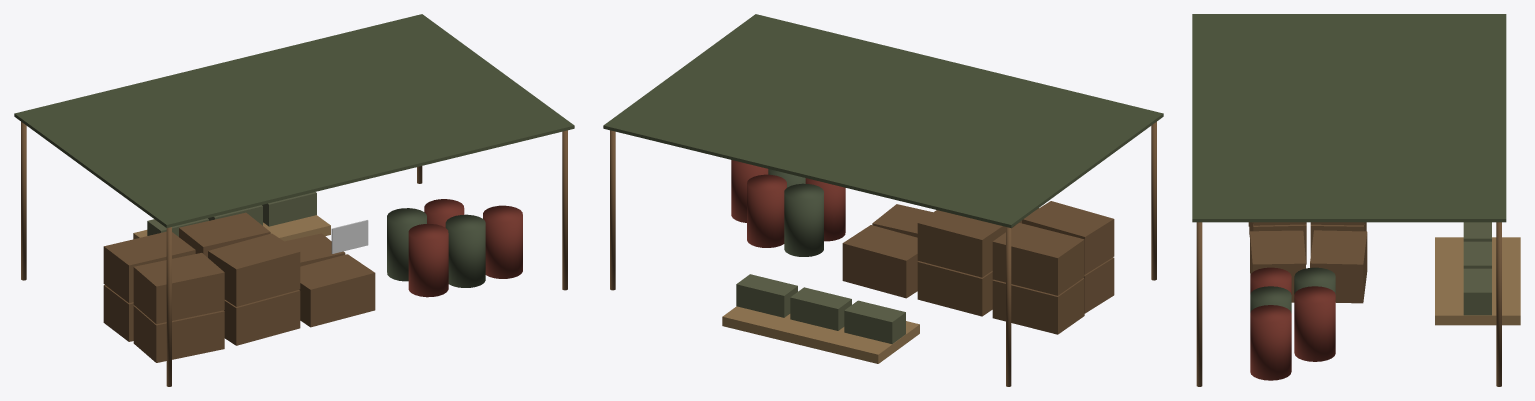
Rendered from SupplyDepot.fbx.
The picture shows the model from 3 angles, left to right: view 1: azimuth 30°, elevation 25°; view 2: azimuth 150°, elevation 25°; view 3: azimuth 270°, elevation 25°; orthographic projection. The views are drawn at different scales.
Parts seen in each view (by area): view 1: Camo, Crate001, Crate101, Crate200, Crate000, Crate100, Crate011, Drum0, Drum1, Drum2, Crate111, Drum3 (+9 smaller); view 2: Camo, Crate011, Crate210, Pallet, Crate111, Crate010, Crate001, Crate110, Drum3, Drum4, AmmoBox0, AmmoBox1 (+8 smaller); view 3: Camo, Pallet, Crate210, Drum4, Drum2, Crate200, AmmoBox2, Pole2, Pole0, Drum0, Drum3, Drum1 (+4 smaller).
Boxes of the visible parts, box(x1,y1,x2,y2) form: Camo: box(14, 14, 574, 227); Crate001: box(133, 253, 224, 323); Crate101: box(208, 233, 300, 306); Crate200: box(299, 254, 375, 327); Crate000: box(133, 305, 224, 362); Crate100: box(224, 290, 300, 345); Crate011: box(103, 231, 195, 302); Drum0: box(408, 224, 448, 297); Drum1: box(445, 214, 485, 287); Drum2: box(483, 205, 522, 278); Crate111: box(179, 212, 270, 257); Drum3: box(387, 208, 426, 281); Camo: box(603, 14, 1163, 227); Crate011: box(992, 223, 1084, 295); Crate210: box(842, 225, 918, 298); Pallet: box(722, 306, 919, 363); Crate111: box(917, 210, 1005, 277); Crate010: box(992, 278, 1084, 334); Crate001: box(1022, 201, 1114, 274); Crate110: box(917, 261, 993, 316); Drum3: box(784, 183, 823, 256); Drum4: box(747, 174, 786, 247); AmmoBox0: box(844, 300, 905, 343); AmmoBox1: box(790, 287, 851, 330); Camo: box(1192, 14, 1506, 222); Pallet: box(1435, 237, 1520, 325); Crate210: box(1310, 230, 1367, 303); Drum4: box(1294, 286, 1335, 361); Drum2: box(1250, 305, 1291, 380); Crate200: box(1250, 230, 1305, 302); AmmoBox2: box(1463, 268, 1491, 315); Pole2: box(1196, 222, 1202, 386); Pole0: box(1496, 222, 1501, 386); Drum0: box(1250, 267, 1291, 294); Drum3: box(1294, 267, 1335, 294); Drum1: box(1250, 286, 1291, 313).
Size of the model in its own units: 680 by 460 by 263.
